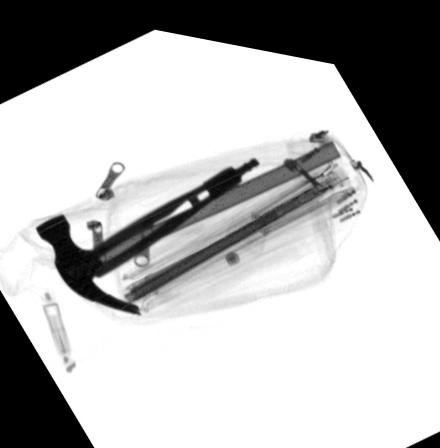Hammer: (33, 126, 339, 308)
Pliers: (76, 145, 258, 273)
